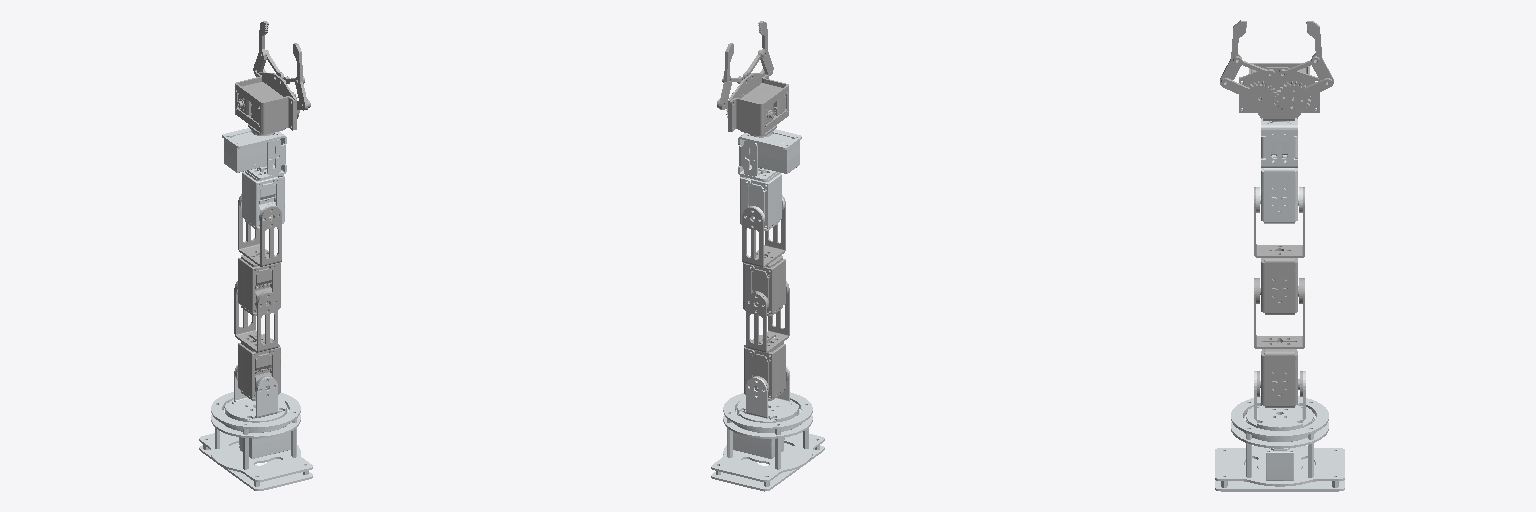
robot.urdf — meng_arm_description:
<?xml version="1.0" encoding="utf-8"?>
<!-- This URDF was automatically created by SolidWorks to URDF Exporter! Originally created by [author] ([email redacted]) 
     Commit Version: 1.6.0-1-g15f4949  Build Version: 1.6.7594.29634
     For more information, please see http://wiki.ros.org/sw_urdf_exporter -->
<robot
  name="meng_arm_description">
  <link
    name="base_link">
    <inertial>
      <origin
        xyz="0.0013962 -3.761E-06 0.028407"
        rpy="0 0 0" />
      <mass
        value="0.18049" />
      <inertia
        ixx="0.00010246"
        ixy="2.3866E-08"
        ixz="-3.1727E-08"
        iyy="6.7017E-05"
        iyz="-1.7586E-09"
        izz="0.00016666" />
    </inertial>
    <visual>
      <origin
        xyz="0 0 0"
        rpy="0 0 0" />
      <geometry>
        <mesh
          filename="package://meng_arm_description/meshes/base_link.STL" />
      </geometry>
      <material
        name="">
        <color
          rgba="0.89804 0.91765 0.92941 1" />
      </material>
    </visual>
    <collision>
      <origin
        xyz="0 0 0"
        rpy="0 0 0" />
      <geometry>
        <mesh
          filename="package://meng_arm_description/meshes/base_link.STL" />
      </geometry>
    </collision>
  </link>
  <link
    name="link1">
    <inertial>
      <origin
        xyz="2.2383E-18 6.0614E-19 -0.0018131"
        rpy="0 0 0" />
      <mass
        value="0.041311" />
      <inertia
        ixx="1.0616E-05"
        ixy="2.8299E-21"
        ixz="-2.6064E-21"
        iyy="9.0199E-06"
        iyz="-2.1562E-20"
        izz="1.5659E-05" />
    </inertial>
    <visual>
      <origin
        xyz="0 0 0"
        rpy="0 0 0" />
      <geometry>
        <mesh
          filename="package://meng_arm_description/meshes/link1.STL" />
      </geometry>
      <material
        name="">
        <color
          rgba="0.89804 0.91765 0.92941 1" />
      </material>
    </visual>
    <collision>
      <origin
        xyz="0 0 0"
        rpy="0 0 0" />
      <geometry>
        <mesh
          filename="package://meng_arm_description/meshes/link1.STL" />
      </geometry>
    </collision>
  </link>
  <joint
    name="joint1"
    type="revolute">
    <origin
      xyz="0 0 0.056"
      rpy="0 0 0" />
    <parent
      link="base_link" />
    <child
      link="link1" />
    <axis
      xyz="0 0 1" />
    <limit
      lower="-3.14"
      upper="3.14"
      effort="100"
      velocity="1" />
  </joint>
  <link
    name="link2">
    <inertial>
      <origin
        xyz="0.0029455 -0.021373 0.019322"
        rpy="0 0 0" />
      <mass
        value="0.060846" />
      <inertia
        ixx="2.0113E-05"
        ixy="-1.7586E-09"
        ixz="2.3871E-08"
        iyy="1.6841E-05"
        iyz="-3.1727E-08"
        izz="8.7855E-06" />
    </inertial>
    <visual>
      <origin
        xyz="0 0 0"
        rpy="0 0 0" />
      <geometry>
        <mesh
          filename="package://meng_arm_description/meshes/link2.STL" />
      </geometry>
      <material
        name="">
        <color
          rgba="0.75294 0.75294 0.75294 1" />
      </material>
    </visual>
    <collision>
      <origin
        xyz="0 0 0"
        rpy="0 0 0" />
      <geometry>
        <mesh
          filename="package://meng_arm_description/meshes/link2.STL" />
      </geometry>
    </collision>
  </link>
  <joint
    name="joint2"
    type="revolute">
    <origin
      xyz="0 0.02085 0.026"
      rpy="0 0 0" />
    <parent
      link="link1" />
    <child
      link="link2" />
    <axis
      xyz="0 1 0" />
    <limit
      lower="-3.14"
      upper="3.14"
      effort="100"
      velocity="1" />
  </joint>
  <link
    name="link3">
    <inertial>
      <origin
        xyz="0.0036483 -0.021266 0.019431"
        rpy="0 0 0" />
      <mass
        value="0.061217" />
      <inertia
        ixx="2.0286E-05"
        ixy="-1.7586E-09"
        ixz="2.3871E-08"
        iyy="1.6984E-05"
        iyz="-3.1727E-08"
        izz="8.8179E-06" />
    </inertial>
    <visual>
      <origin
        xyz="0 0 0"
        rpy="0 0 0" />
      <geometry>
        <mesh
          filename="package://meng_arm_description/meshes/link3.STL" />
      </geometry>
      <material
        name="">
        <color
          rgba="0.75294 0.75294 0.75294 1" />
      </material>
    </visual>
    <collision>
      <origin
        xyz="0 0 0"
        rpy="0 0 0" />
      <geometry>
        <mesh
          filename="package://meng_arm_description/meshes/link3.STL" />
      </geometry>
    </collision>
  </link>
  <joint
    name="joint3"
    type="revolute">
    <origin
      xyz="0.0003 -0.000224 0.08325"
      rpy="0 0 0" />
    <parent
      link="link2" />
    <child
      link="link3" />
    <axis
      xyz="0 1 0" />
    <limit
      lower="-3.14"
      upper="3.14"
      effort="100"
      velocity="1" />
  </joint>
  <link
    name="link4">
    <inertial>
      <origin
        xyz="0.00075937 -0.021254 0.033891"
        rpy="0 0 0" />
      <mass
        value="0.095796" />
      <inertia
        ixx="1.9193E-05"
        ixy="2.0079E-08"
        ixz="8.8665E-07"
        iyy="2.2812E-05"
        iyz="-2.9784E-08"
        izz="1.45E-05" />
    </inertial>
    <visual>
      <origin
        xyz="0 0 0"
        rpy="0 0 0" />
      <geometry>
        <mesh
          filename="package://meng_arm_description/meshes/link4.STL" />
      </geometry>
      <material
        name="">
        <color
          rgba="0.89804 0.91765 0.92941 1" />
      </material>
    </visual>
    <collision>
      <origin
        xyz="0 0 0"
        rpy="0 0 0" />
      <geometry>
        <mesh
          filename="package://meng_arm_description/meshes/link4.STL" />
      </geometry>
    </collision>
  </link>
  <joint
    name="joint4"
    type="revolute">
    <origin
      xyz="0.0038 0 0.08325"
      rpy="0 0 0" />
    <parent
      link="link3" />
    <child
      link="link4" />
    <axis
      xyz="0 1 0" />
    <limit
      lower="-3.14"
      upper="3.14"
      effort="100"
      velocity="1" />
  </joint>
  <link
    name="link5">
    <inertial>
      <origin
        xyz="0.0064459 -0.00033747 0.027001"
        rpy="0 0 0" />
      <mass
        value="0.080555" />
      <inertia
        ixx="2.6584E-05"
        ixy="1.1882E-07"
        ixz="-7.0127E-07"
        iyy="1.1516E-05"
        iyz="1.5478E-07"
        izz="2.0743E-05" />
    </inertial>
    <visual>
      <origin
        xyz="0 0 0"
        rpy="0 0 0" />
      <geometry>
        <mesh
          filename="package://meng_arm_description/meshes/link5.STL" />
      </geometry>
      <material
        name="">
        <color
          rgba="0.75294 0.75294 0.75294 1" />
      </material>
    </visual>
    <collision>
      <origin
        xyz="0 0 0"
        rpy="0 0 0" />
      <geometry>
        <mesh
          filename="package://meng_arm_description/meshes/link5.STL" />
      </geometry>
    </collision>
  </link>
  <joint
    name="joint5"
    type="revolute">
    <origin
      xyz="0.00305 -0.021074 0.078674"
      rpy="0 0 0" />
    <parent
      link="link4" />
    <child
      link="link5" />
    <axis
      xyz="0 0 1" />
    <limit
      lower="-3.14"
      upper="3.14"
      effort="100"
      velocity="1" />
  </joint>
</robot>

--- Render facts (derived) ---
The picture shows the robot from 3 angles, left to right: view 1: azimuth 30°, elevation 25°; view 2: azimuth 150°, elevation 25°; view 3: azimuth 270°, elevation 25°; orthographic projection.
Model meng_arm_description with 6 links and 5 joints (5 revolute), rooted at base_link, posed every joint at zero.
Links seen in each view (by area): view 1: base_link, link4, link5, link3, link2, link1; view 2: base_link, link4, link5, link3, link2, link1; view 3: base_link, link5, link4, link2, link3, link1.
Link boxes in pixels (x1,y1,x2,y2): base_link: (199,392,312,490); link4: (222,128,286,229); link5: (235,21,310,134); link3: (236,194,281,315); link2: (234,281,280,400); link1: (225,365,286,422); base_link: (711,392,824,491); link4: (738,129,801,230); link5: (717,21,788,136); link3: (742,195,788,315); link2: (744,281,789,400); link1: (737,366,798,422); base_link: (1215,396,1344,491); link5: (1220,20,1333,120); link4: (1256,118,1302,223); link2: (1254,278,1304,407); link3: (1254,187,1304,314); link1: (1246,371,1313,430).
Size in the robot's own frame: 0.08 by 0.106 by 0.4177 metres.
6 mesh visuals loaded from 6 distinct referenced files (6 binary STL).
